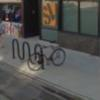bicycles: (28, 44, 67, 71)
